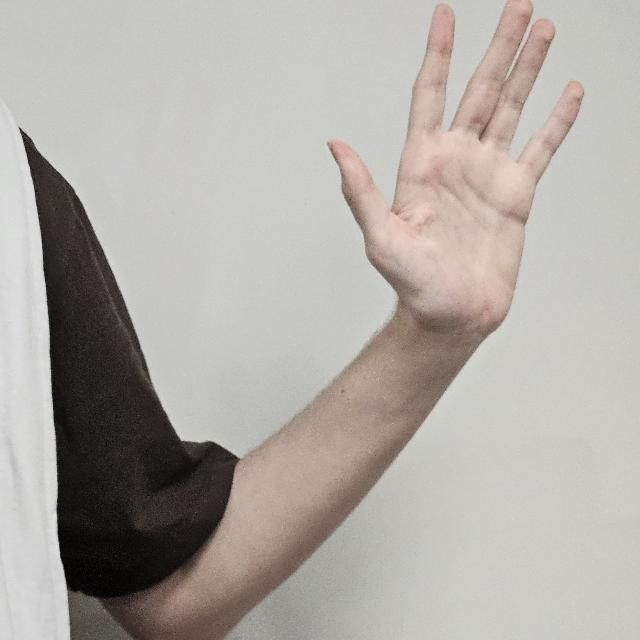X: (324, 2, 586, 378)
